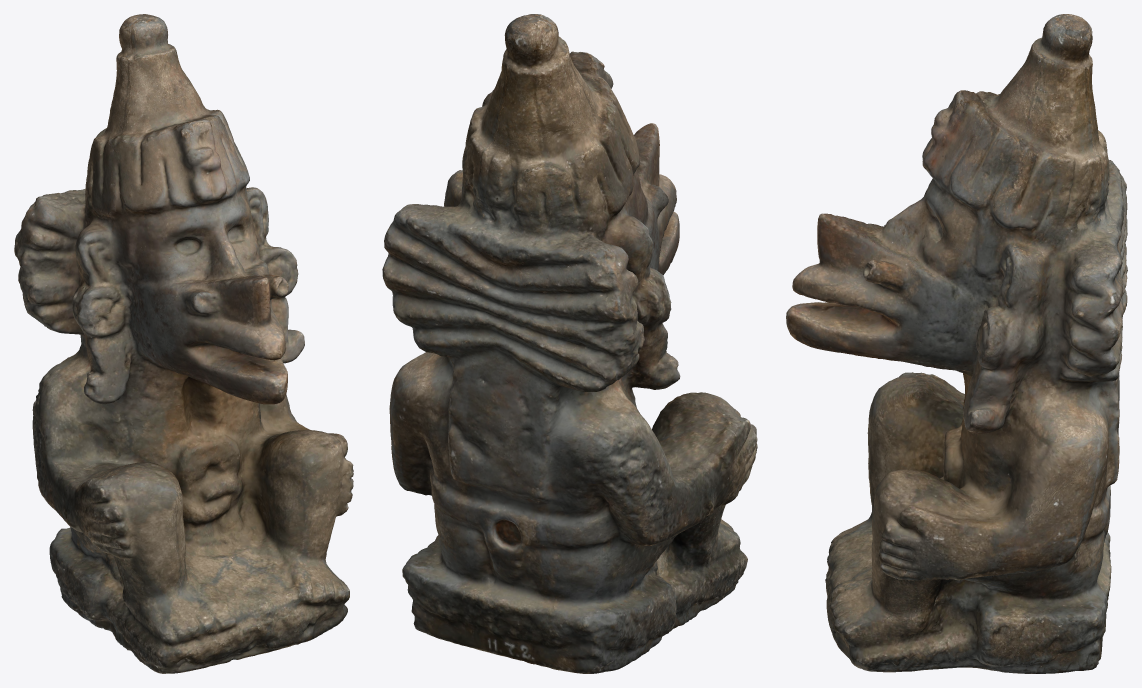
File: quetzalcoatl-2-transformed.glb
The picture shows the model from 3 angles, left to right: view 1: azimuth 30°, elevation 25°; view 2: azimuth 150°, elevation 25°; view 3: azimuth 270°, elevation 25°; orthographic projection. The views are drawn at different scales.
Parts seen in each view (by area): view 1: 1911.07.0002; view 2: 1911.07.0002; view 3: 1911.07.0002.
Part boxes in pixels (<box>): 1911.07.0002: <box>14,14,353,673</box>; 1911.07.0002: <box>382,14,757,673</box>; 1911.07.0002: <box>786,14,1127,673</box>.
Size of the model in its own units: 0.1829 by 0.3841 by 0.1964.
1 material, 1 textured.
